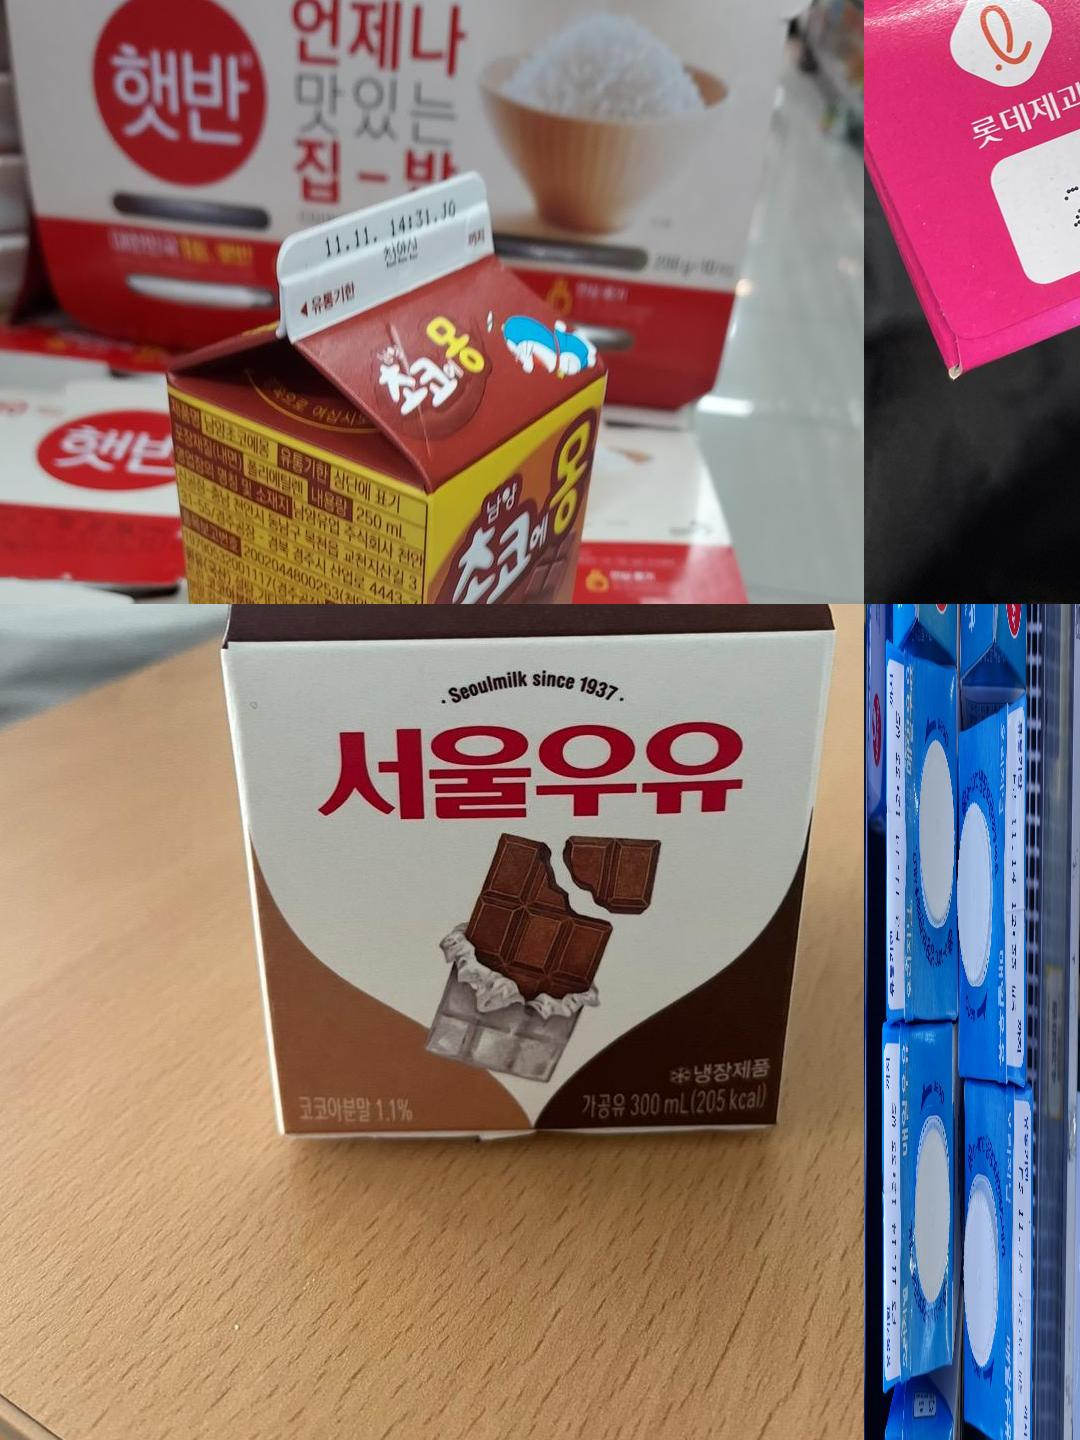milk: (247, 604, 781, 670), (278, 171, 496, 321), (1004, 717, 1023, 1071), (1012, 1102, 1030, 1440), (887, 657, 904, 1011), (884, 1042, 901, 1389)
